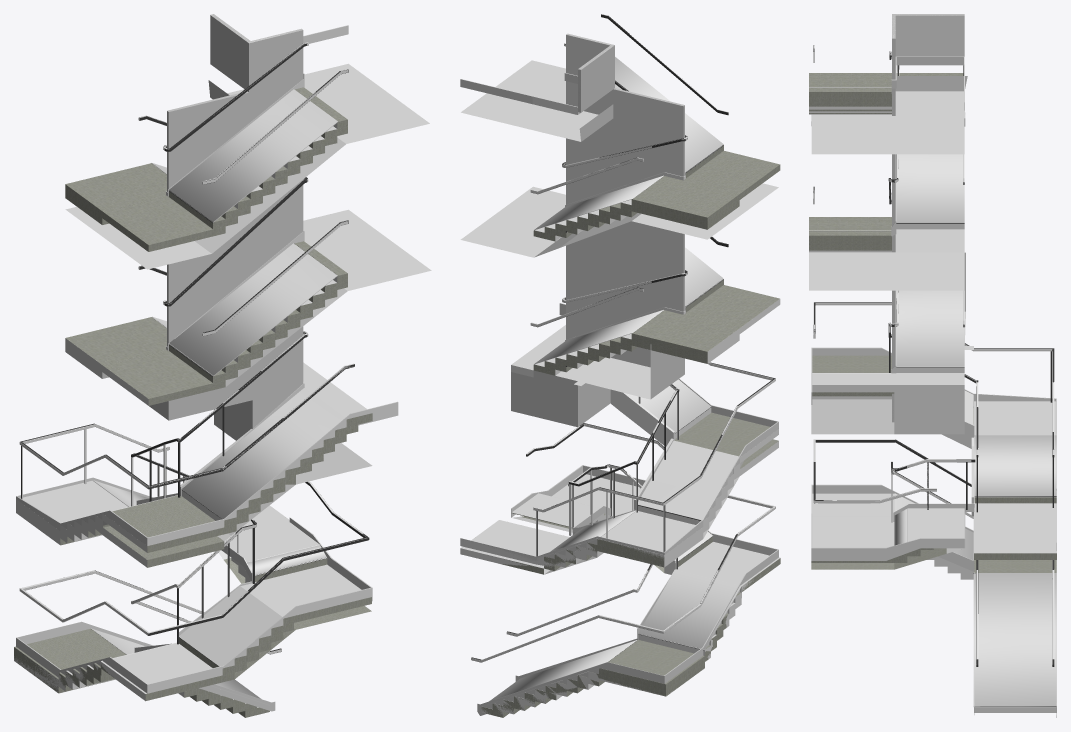
The model's file is imp_all_stair_3_sized.glb.
The picture shows the model from 3 angles, left to right: view 1: azimuth 30°, elevation 25°; view 2: azimuth 150°, elevation 25°; view 3: azimuth 270°, elevation 25°; orthographic projection. The views are drawn at different scales.
Parts seen in each view (by area): view 1: SIMP_COL, NOCOL_UFR_MIM_V1_SOl, NOCOL_Cube_027, NOCOL_Cube_009, NOCOL_Cube_118, NOCOL_Cube_028; view 2: SIMP_COL, NOCOL_Cube_009, NOCOL_Cube_027, NOCOL_Cube_118, NOCOL_UFR_MIM_V1_SOl, NOCOL_Cube_028; view 3: SIMP_COL, NOCOL_Cube_027, NOCOL_Cube_009, NOCOL_Cube_118, NOCOL_Cube_028, NOCOL_UFR_MIM_V1_SOl.
Boxes of the visible parts, <box> form: SIMP_COL: <box>14,15,431,707</box>; NOCOL_UFR_MIM_V1_SOl: <box>149,14,303,440</box>; NOCOL_Cube_027: <box>14,413,372,717</box>; NOCOL_Cube_009: <box>16,43,397,545</box>; NOCOL_Cube_118: <box>65,87,347,251</box>; NOCOL_Cube_028: <box>16,482,372,711</box>; SIMP_COL: <box>460,14,780,716</box>; NOCOL_Cube_009: <box>460,14,779,560</box>; NOCOL_Cube_027: <box>481,407,780,717</box>; NOCOL_Cube_118: <box>533,145,780,241</box>; NOCOL_UFR_MIM_V1_SOl: <box>511,33,684,427</box>; NOCOL_Cube_028: <box>471,423,778,715</box>; SIMP_COL: <box>809,14,1056,712</box>; NOCOL_Cube_027: <box>811,355,1056,706</box>; NOCOL_Cube_009: <box>809,45,1056,512</box>; NOCOL_Cube_118: <box>809,73,964,223</box>; NOCOL_Cube_028: <box>811,439,1056,717</box>; NOCOL_UFR_MIM_V1_SOl: <box>892,14,965,422</box>.
Bounding box in the file's own units: 6.67 × 16.12 × 5.38.
Materials: 9 (4 with a texture image).
